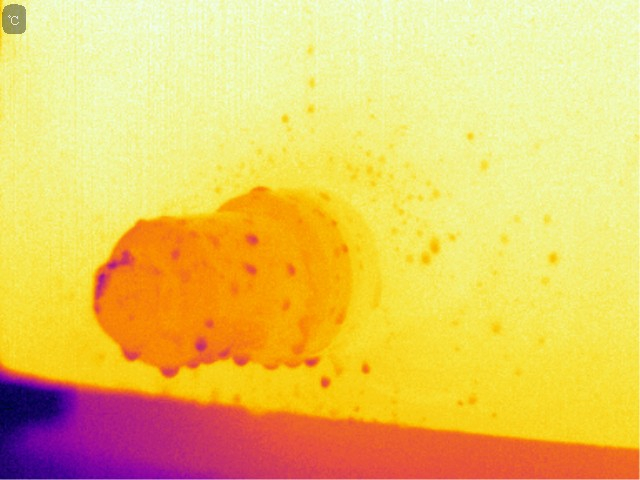Water: (159, 364, 185, 381), (117, 345, 143, 362), (240, 230, 263, 249), (192, 334, 215, 351), (234, 351, 254, 370), (240, 261, 260, 279), (183, 358, 201, 376), (284, 355, 301, 374), (318, 376, 337, 392), (355, 358, 371, 377), (428, 235, 442, 255), (217, 347, 233, 364), (282, 259, 299, 275), (262, 357, 279, 372), (252, 183, 271, 195), (167, 247, 184, 260), (545, 249, 558, 265), (302, 356, 321, 366)
